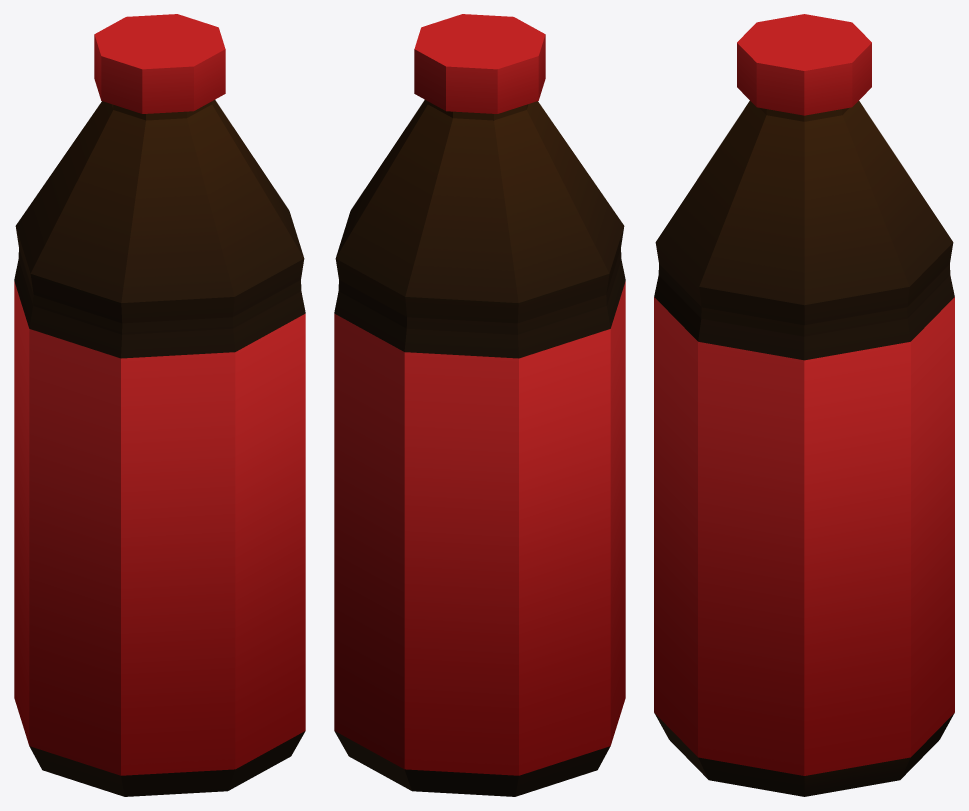
Rendered from coke.glb.
The picture shows the model from 3 angles, left to right: view 1: azimuth 30°, elevation 25°; view 2: azimuth 150°, elevation 25°; view 3: azimuth 270°, elevation 25°; orthographic projection.
Visible parts, largest first — view 1: Red; view 2: Red; view 3: Red.
Boxes of the visible parts, x1,y1,x2,y2 form: Red: [14, 14, 305, 796]; Red: [334, 14, 625, 796]; Red: [654, 14, 954, 796].
Bounding box in the file's own units: 0.0841 × 0.215 × 0.0841.
1 material, 1 textured.
